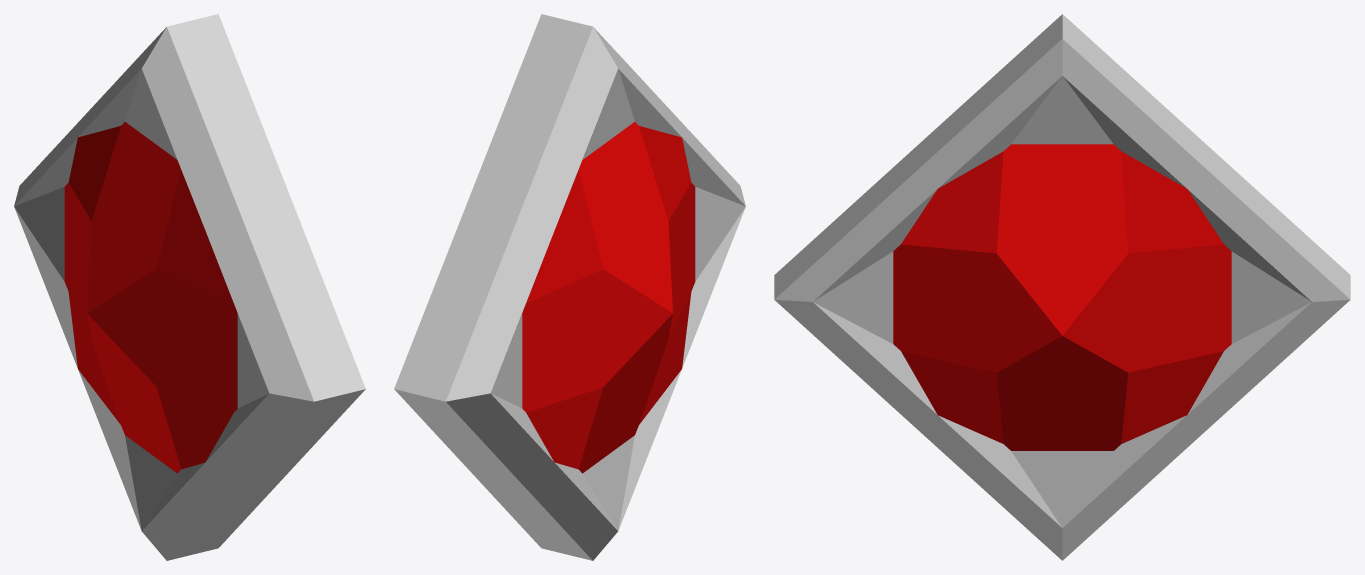
The model's file is ShardA.fbx.
The picture shows the model from 3 angles, left to right: view 1: azimuth 30°, elevation 25°; view 2: azimuth 150°, elevation 25°; view 3: azimuth 270°, elevation 25°; orthographic projection. The views are drawn at different scales.
Parts seen in each view (by area): view 1: ShardA; view 2: ShardA; view 3: ShardA.
Boxes of the visible parts, x1,y1,x2,y2 form: ShardA: (14, 14, 365, 560); ShardA: (394, 14, 745, 560); ShardA: (774, 14, 1350, 560).
Bounding box in the file's own units: 133 × 327 × 327.
